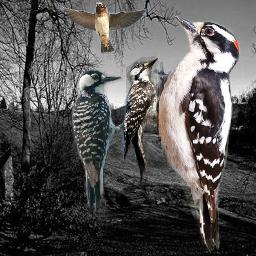Swallow: (57, 2, 150, 54)
Woodpecker: (146, 14, 242, 256), (69, 69, 141, 214), (119, 55, 170, 185)
